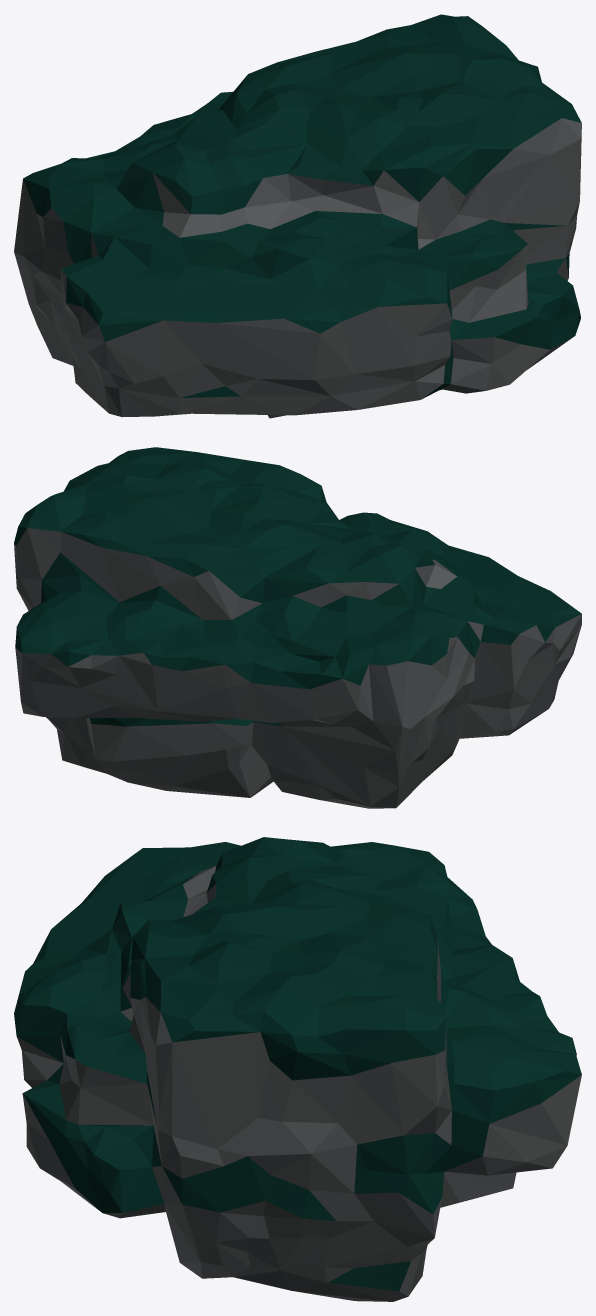
Rendered from MCastle_CliffRock_Sml_01.FBX.
3 renders of one model, top to bottom at view 1: azimuth 30°, elevation 25°; view 2: azimuth 150°, elevation 25°; view 3: azimuth 270°, elevation 25°, orthographic. The views are drawn at different scales.
Parts seen in each view (by area): view 1: MCastle_CliffRock_Sml_01_LOD0; view 2: MCastle_CliffRock_Sml_01_LOD0; view 3: MCastle_CliffRock_Sml_01_LOD0.
Boxes of the visible parts, x1,y1,x2,y2 form: MCastle_CliffRock_Sml_01_LOD0: (14, 14, 581, 418); MCastle_CliffRock_Sml_01_LOD0: (14, 447, 581, 808); MCastle_CliffRock_Sml_01_LOD0: (14, 837, 581, 1301).
Size of what is drawn, in the model's own units: 8.05 by 4.45 by 7.18.
